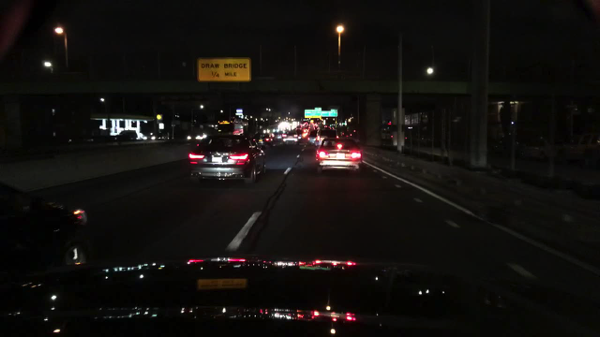car: (0, 181, 91, 266), (187, 133, 266, 184), (316, 137, 363, 174), (494, 132, 556, 160), (562, 134, 598, 166), (314, 130, 337, 149), (115, 130, 138, 141), (282, 133, 299, 147), (253, 132, 265, 149), (307, 130, 318, 146), (143, 133, 156, 140), (157, 133, 166, 141), (264, 135, 272, 142), (302, 129, 307, 140), (274, 135, 283, 140), (263, 128, 270, 134), (273, 128, 279, 134), (312, 124, 318, 128), (304, 124, 310, 127)
person: (295, 126, 301, 136)
traffic sign: (196, 57, 252, 83), (303, 107, 321, 118), (321, 109, 337, 118), (158, 123, 165, 131), (235, 108, 244, 113), (235, 112, 244, 116)
